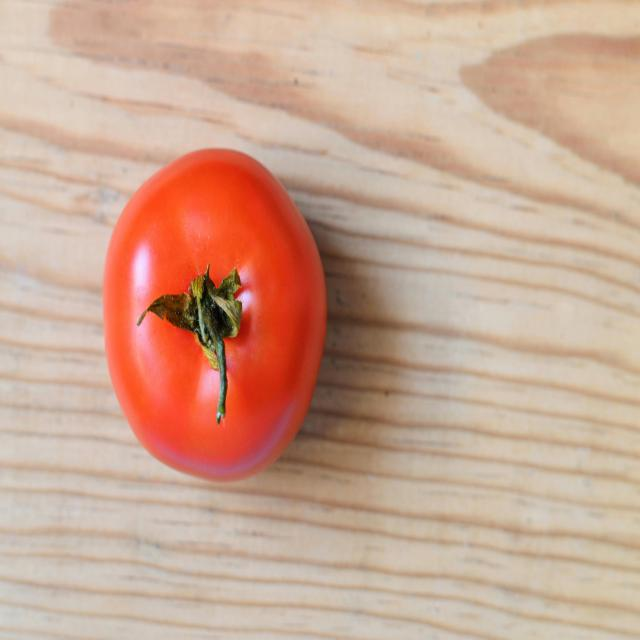tomato: (101, 144, 330, 486)
